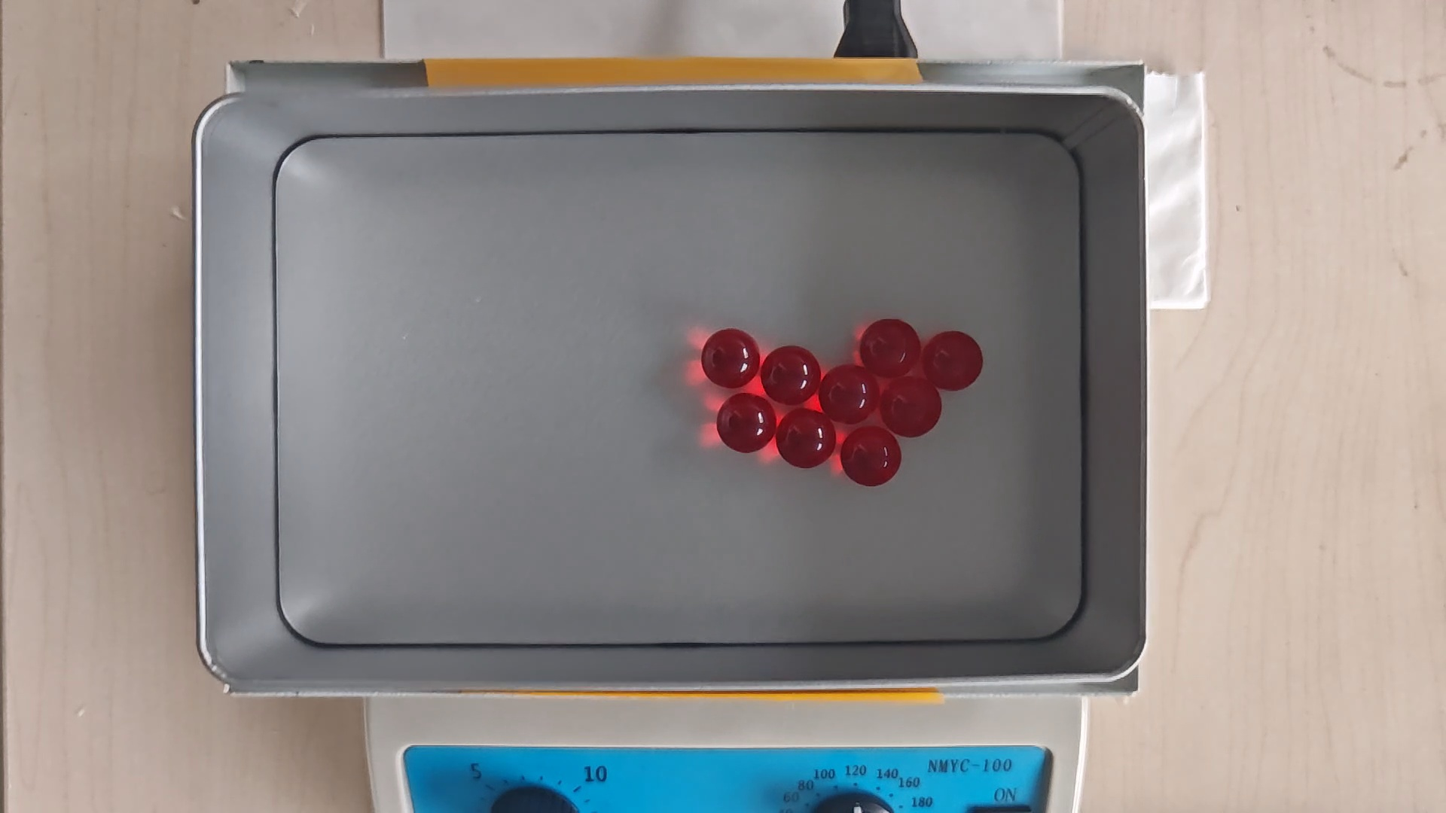ball: (841, 426, 902, 487), (860, 317, 921, 378), (924, 330, 984, 390), (716, 393, 776, 453), (820, 364, 880, 424), (883, 376, 942, 437), (762, 344, 821, 405), (701, 327, 759, 389), (777, 409, 835, 470)
container: (276, 130, 1083, 645)
